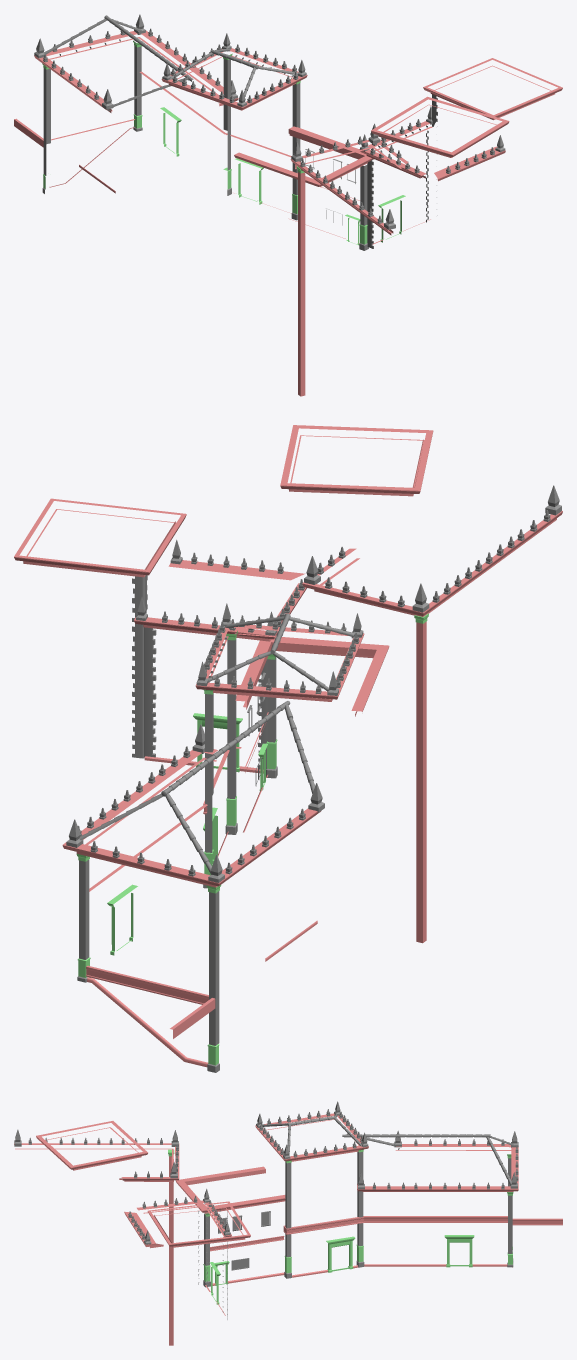
The model's file is S_Envi_Fyz_BuildingMerge_04c.gltf.
3 renders of one model, top to bottom at view 1: azimuth 30°, elevation 25°; view 2: azimuth 150°, elevation 25°; view 3: azimuth 270°, elevation 25°, orthographic. The views are drawn at different scales.
Visible parts, largest first — view 1: S_Envi_Fyz_BuildingMerge_04c; view 2: S_Envi_Fyz_BuildingMerge_04c; view 3: S_Envi_Fyz_BuildingMerge_04c.
Part boxes in pixels (x1,y1,x2,y2): S_Envi_Fyz_BuildingMerge_04c: [14, 14, 562, 396]; S_Envi_Fyz_BuildingMerge_04c: [14, 425, 562, 1072]; S_Envi_Fyz_BuildingMerge_04c: [14, 1101, 562, 1345].
Size of the model in its own units: 34.86 by 28.87 by 60.23.
